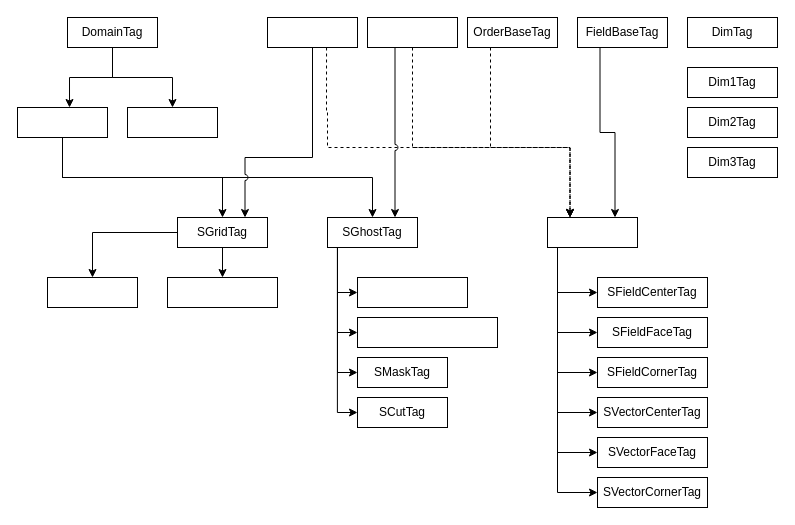
Image size: 795x525. Some labels were removed from this diagram. The box of each missing label's shape, as (x1, y1, x2, y2) in pixels:
GhostBaseTag: (366, 16, 458, 48)
GridBaseTag: (266, 16, 358, 48)
OctreeTag: (126, 106, 218, 138)
SFieldTag: (546, 216, 638, 248)
SNonUniformTag: (166, 276, 278, 308)
SReglarSubdivision Tag: (356, 316, 498, 348)
SRegular Tag: (356, 276, 468, 308)
StructureTag: (16, 106, 108, 138)
SUniformTag: (46, 276, 138, 308)
